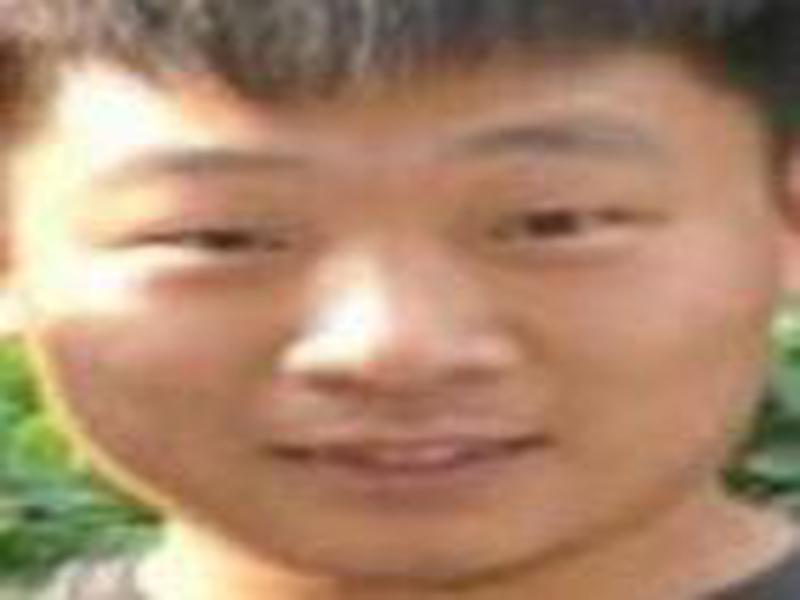without_mask: (14, 59, 770, 584)
